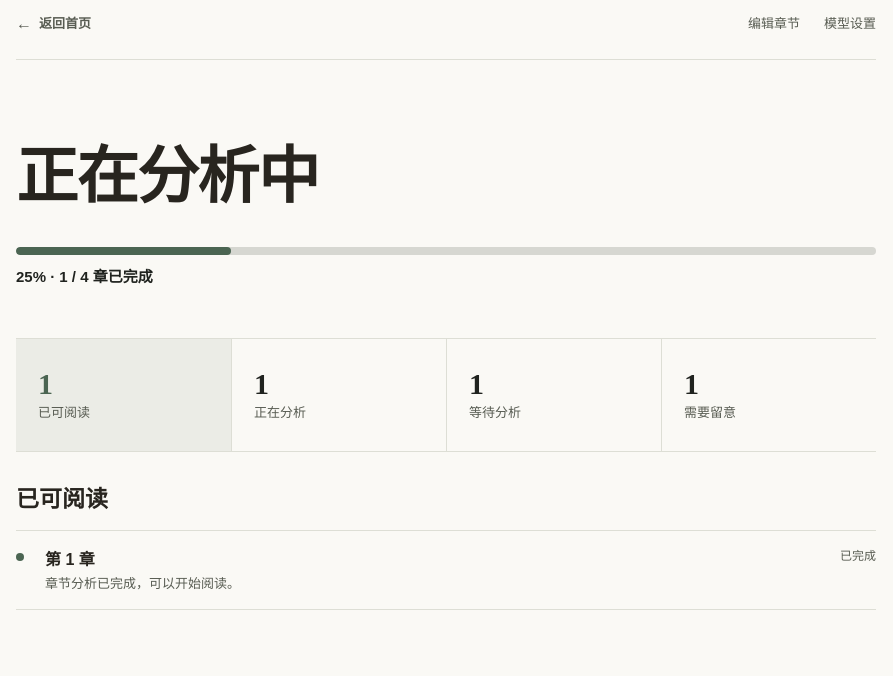
OverviewPage analysis progress › renders live analysis progress with separate status tabs and failure reasons
The width and height of the screenshot is (893, 676).
Expected: the heading "正在分析中" is shown, [16, 143, 318, 211]
Expected: the tab named "1正在分析" is shown, [231, 339, 446, 451]
Click the tab named "1需要留意".
click(768, 395)  # box [661, 339, 876, 451]
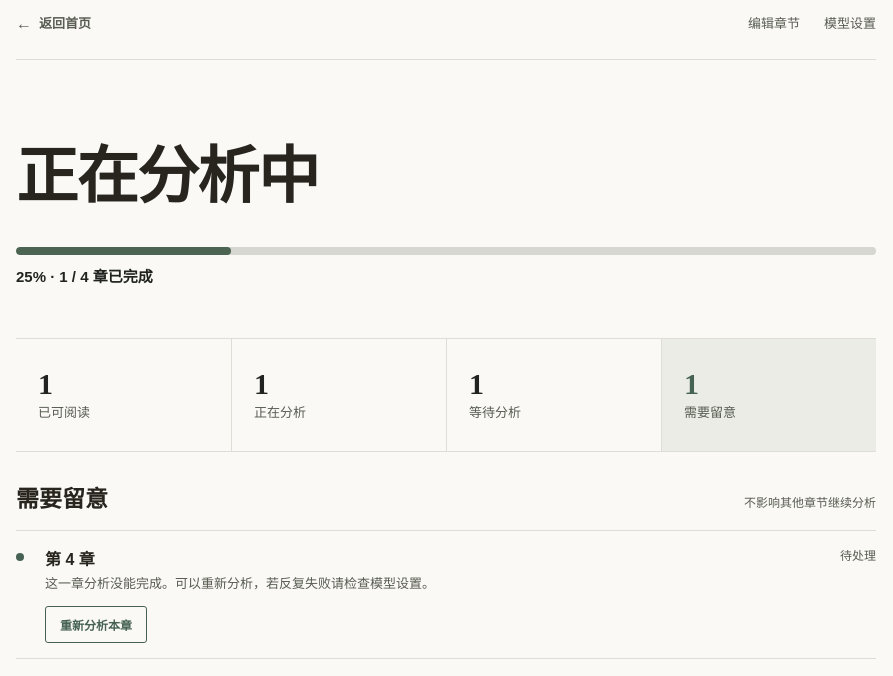
Expected: the panel named "1需要留意" shows "第 4 章", [45, 551, 95, 568]
Expected: the panel named "1需要留意" shows "这一章分析没能完成。可以重新分析，若反复失败请检查模型设置。", [45, 576, 435, 591]
